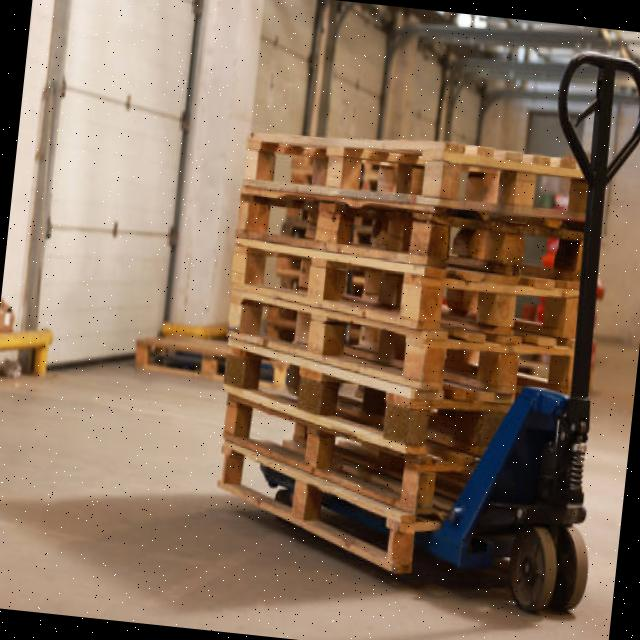Wooden-Pallets: (224, 242, 579, 348), (218, 333, 502, 459), (223, 295, 570, 398), (215, 381, 474, 515), (229, 182, 579, 281), (242, 124, 583, 219), (216, 447, 427, 581)
